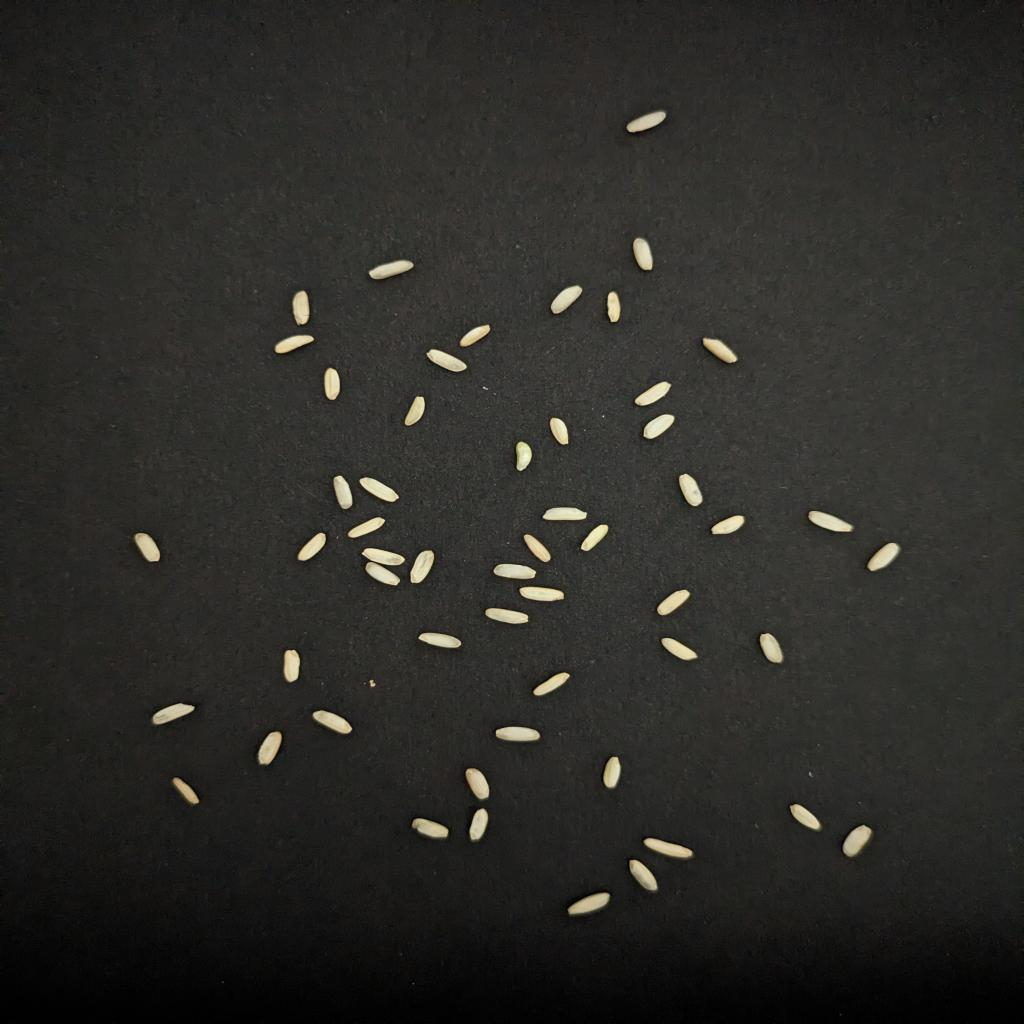chalky: (645, 838, 693, 860), (567, 892, 610, 916), (842, 826, 874, 858), (152, 702, 194, 726), (807, 510, 852, 532), (626, 110, 666, 134), (868, 542, 900, 572), (360, 478, 400, 502), (312, 710, 352, 734), (629, 860, 658, 892), (703, 338, 738, 364), (368, 260, 413, 280), (551, 286, 583, 314), (634, 382, 671, 406), (533, 672, 570, 696), (426, 350, 466, 372), (365, 562, 400, 586), (658, 590, 690, 616), (788, 804, 820, 830), (410, 550, 434, 584), (258, 732, 282, 766), (661, 638, 698, 660), (581, 524, 610, 552), (133, 532, 160, 562), (274, 334, 314, 354), (362, 548, 405, 566), (642, 414, 674, 438), (679, 474, 703, 506), (466, 768, 490, 800), (298, 532, 325, 560), (349, 518, 386, 538), (413, 818, 450, 838), (519, 586, 565, 602), (495, 726, 541, 742), (525, 534, 551, 562), (759, 634, 783, 664), (485, 608, 530, 624), (333, 476, 354, 510), (173, 778, 200, 804), (418, 632, 461, 648), (493, 564, 535, 580), (461, 324, 490, 346), (405, 396, 426, 426), (711, 516, 746, 534), (469, 808, 487, 842), (634, 238, 653, 270), (282, 650, 301, 682), (602, 756, 621, 788), (293, 290, 309, 326), (549, 418, 570, 444), (543, 508, 586, 520), (325, 368, 341, 400), (517, 442, 533, 472), (607, 292, 621, 322)
